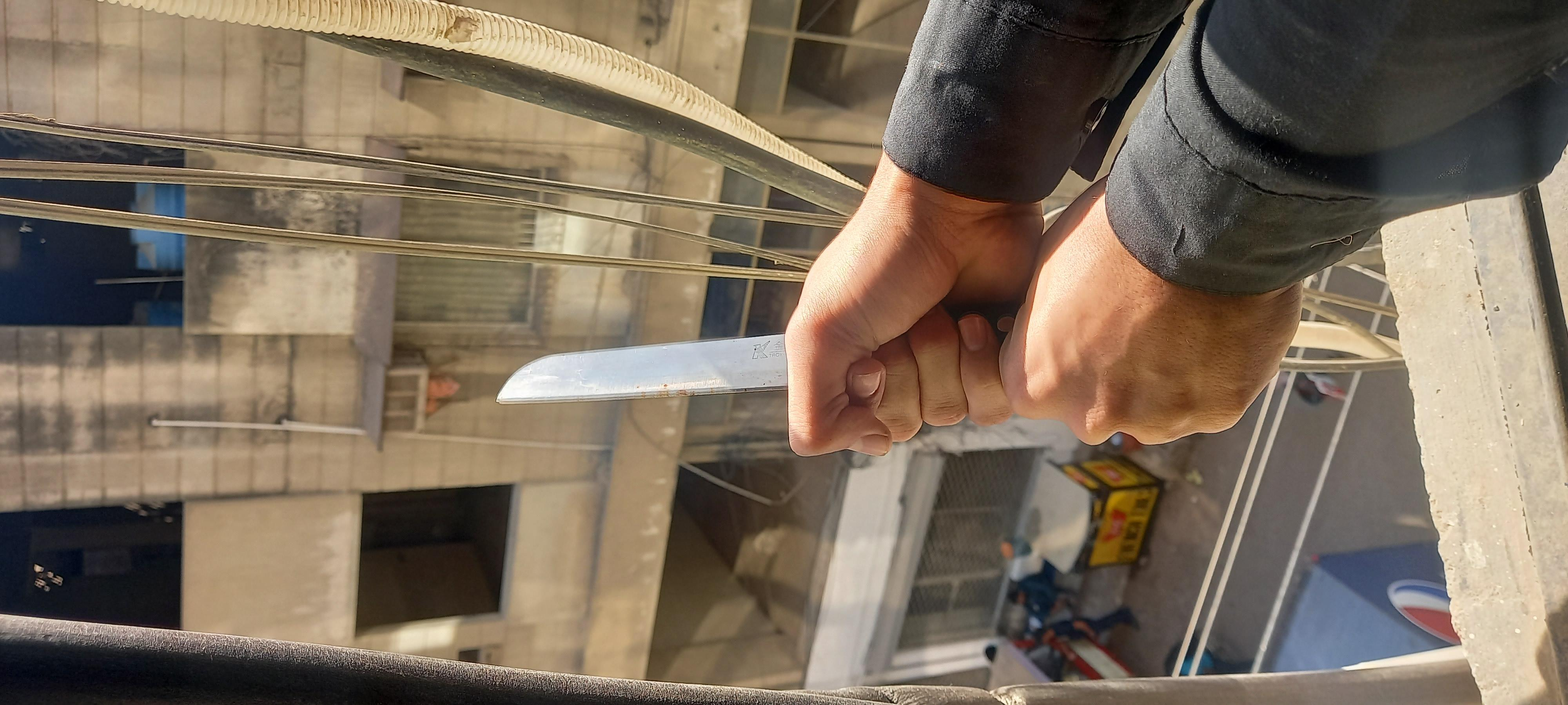knives: (579, 219, 920, 462)
